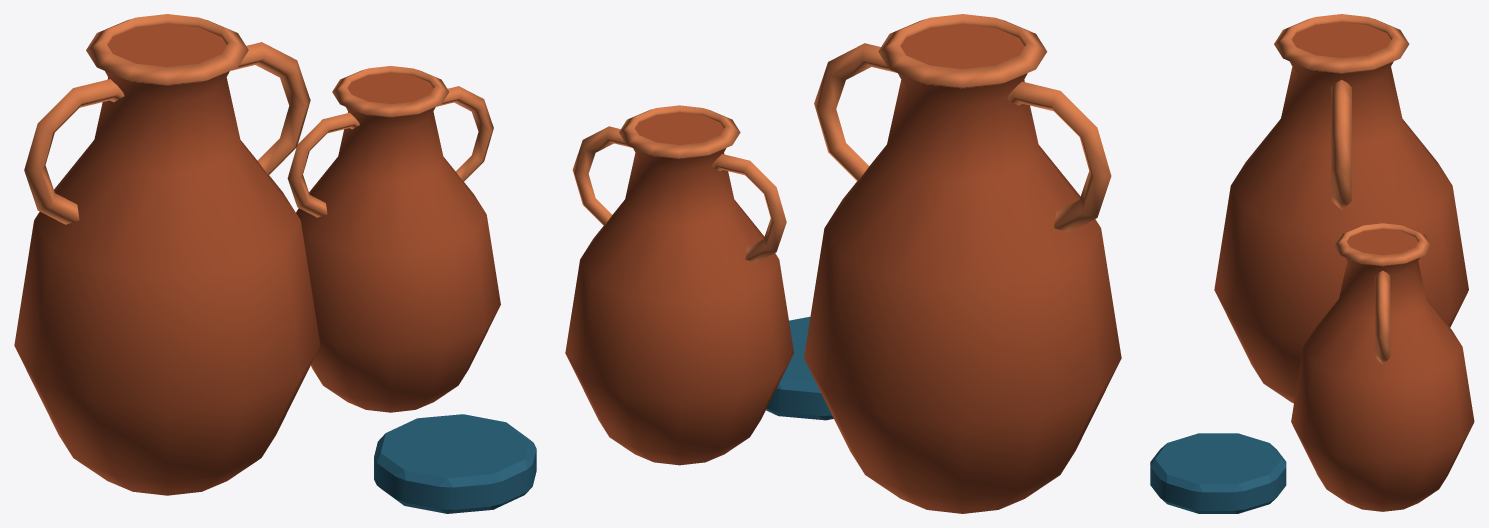
Rendered from decor_amphora_cluster_LOD1.glb.
3 views of the same model, side by side, from view 1: azimuth 30°, elevation 25°; view 2: azimuth 150°, elevation 25°; view 3: azimuth 270°, elevation 25° (orthographic). The views are drawn at different scales.
Visible parts, largest first — view 1: decor_amphora_cluster_LOD1; view 2: decor_amphora_cluster_LOD1; view 3: decor_amphora_cluster_LOD1.
Boxes of the visible parts, x1,y1,x2,y2 form: decor_amphora_cluster_LOD1: (14,14,536,513); decor_amphora_cluster_LOD1: (565,14,1121,513); decor_amphora_cluster_LOD1: (1150,14,1474,513).
Bounding box in the file's own units: 1.16 × 0.9817 × 0.7886.
